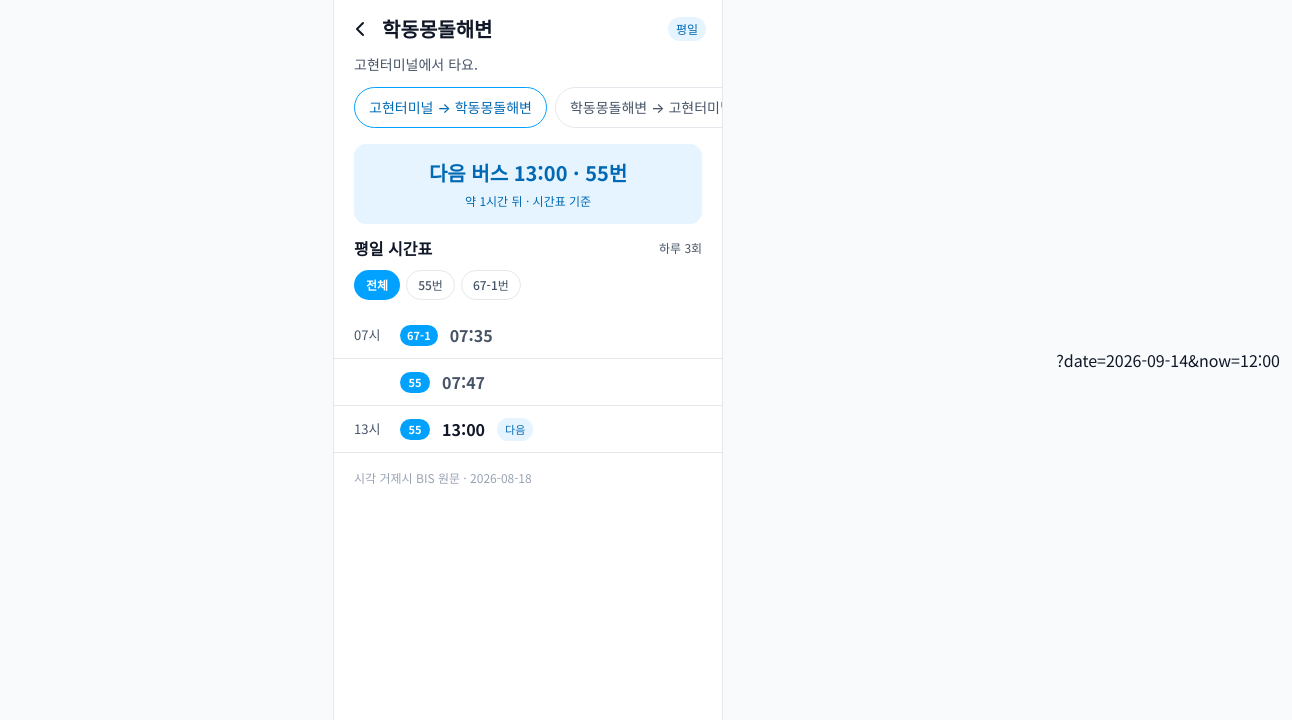
Test case: SpotTimetablePage — 버스 시간표 09-14 개정(530:213 · 541:213 · 541:327) › 노선 칩을 고른 뒤 그 노선만 끝났으면 「오늘 남은 67-1번 버스가 없어요」 — 오늘 전체가 끝났다고 말하지 않는다
The width and height of the screenshot is (1292, 720).
Click the button "67-1번": (491, 285) [461, 270, 521, 300]
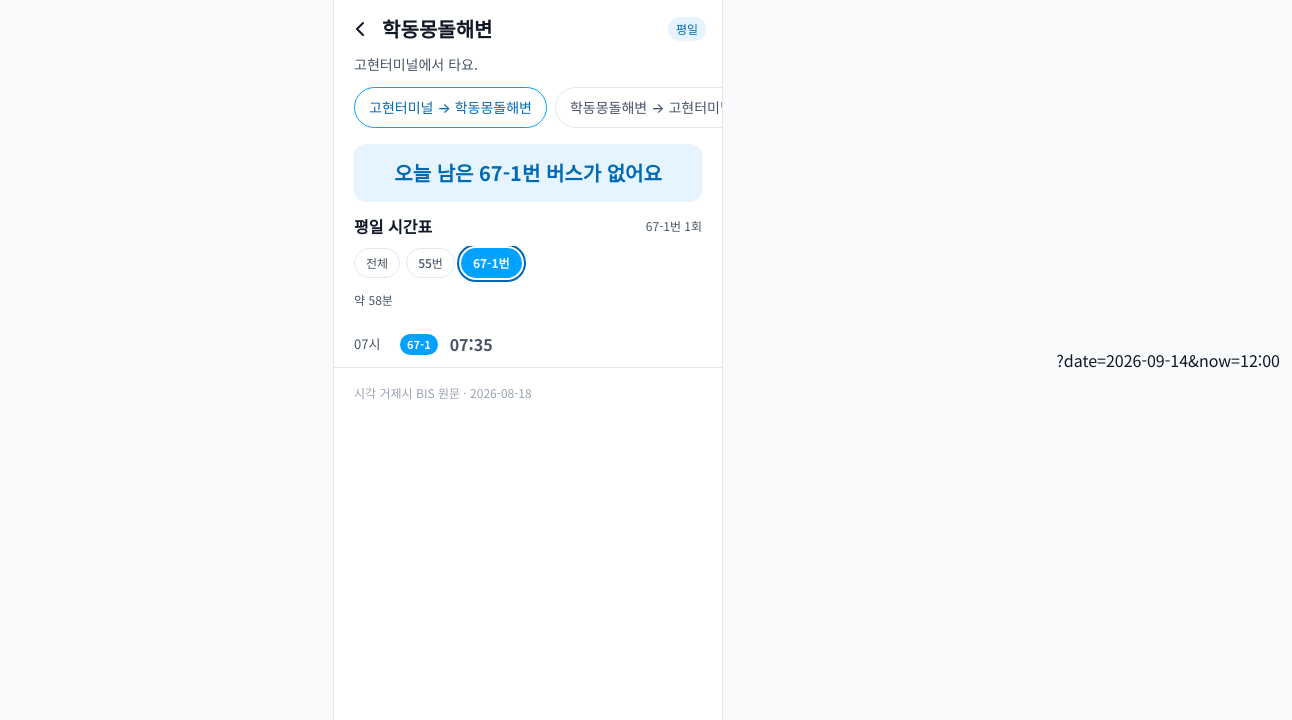
Expected: the text "오늘 남은 67-1번 버스가 없어요" is shown, [394, 158, 662, 188]
